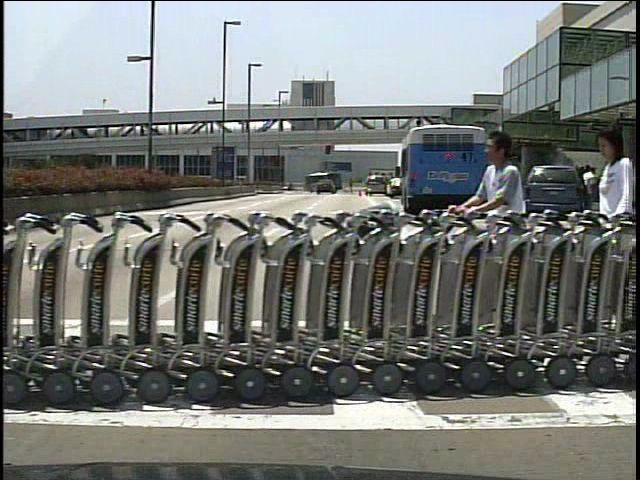person: (449, 125, 541, 365), (579, 117, 630, 331), (576, 163, 595, 218), (581, 164, 601, 215), (347, 176, 354, 196)
